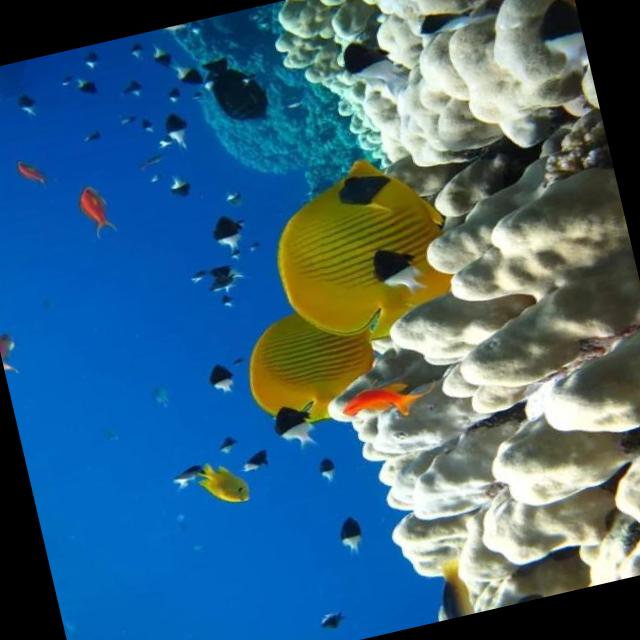ButterflyFish: (230, 115, 470, 378), (230, 263, 407, 463), (166, 424, 266, 528)
